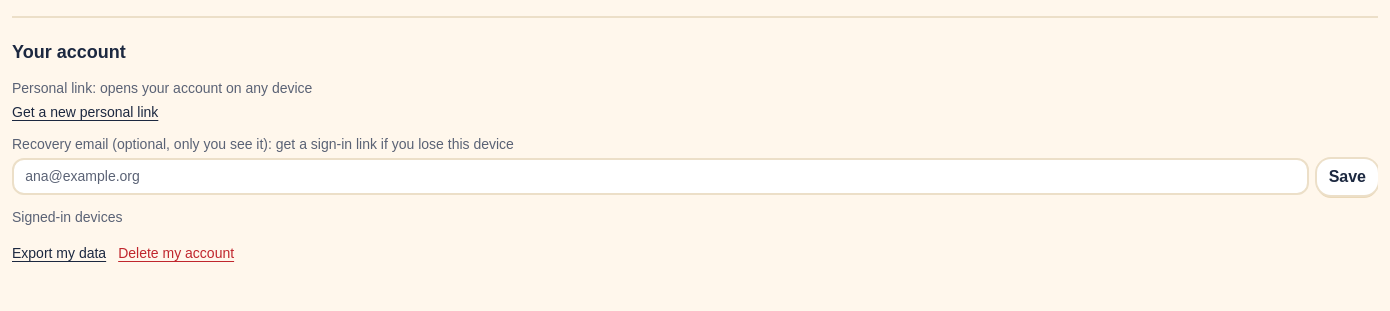
Test case: saves a recovery email only when the server can send email, and shows a refusal
Step 1. Replace the text in the field labelled "Recovery email" with "x@y.co" → [660, 176], box [12,158,1309,195]
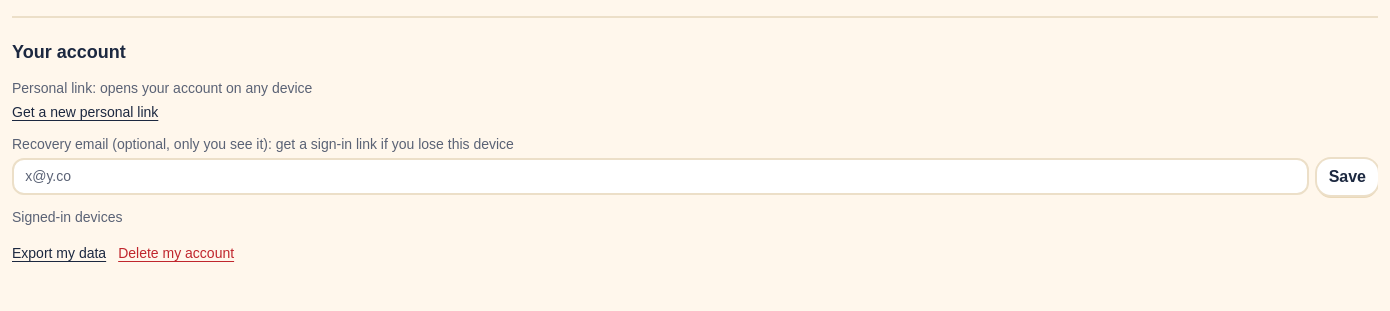
Step 2. Click the button "Save" → [1347, 177], box [1317,159,1378,195]
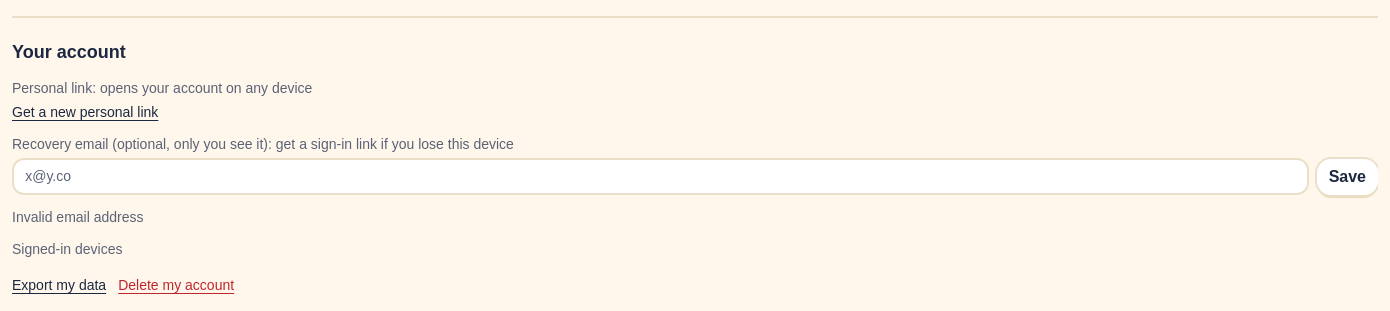
Expected: the message reads "Invalid email address", [12,209,144,225]
